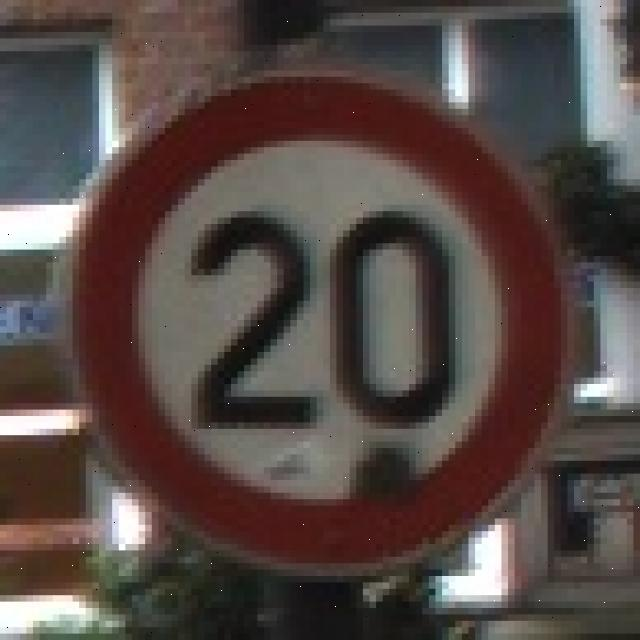speed limit 20: (59, 68, 567, 576)
